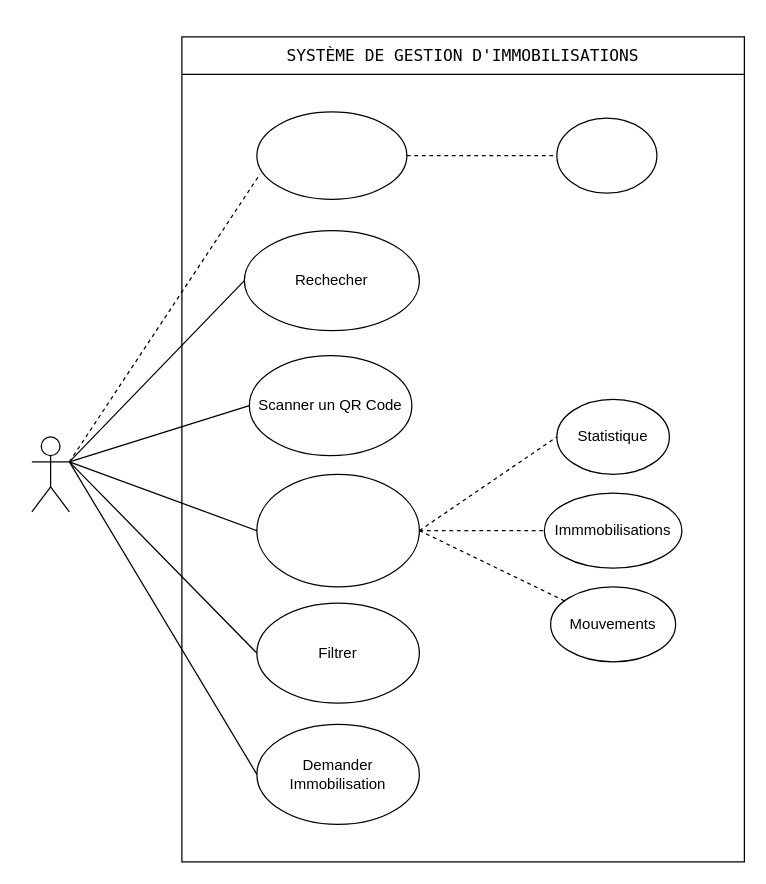
Some shapes in this 766 by 884 pixel diagram are drawn without their labels. The shapes that lost their labels are listed below. From the top down, each one's centre as x and y in pixels, then its label:
At (x=331, y=155): "authentification".
At (x=606, y=155): "connexion".
At (x=50, y=474): "Employé".
At (x=337, y=530): "Consulter".
